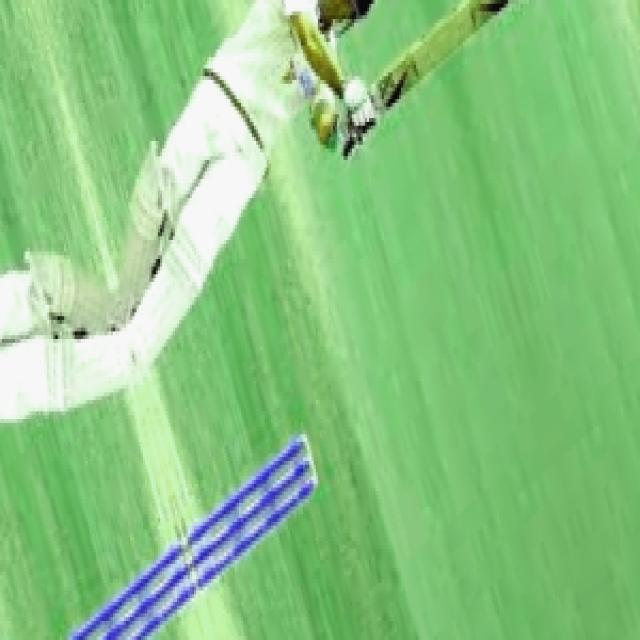toe: (478, 0, 512, 19)
